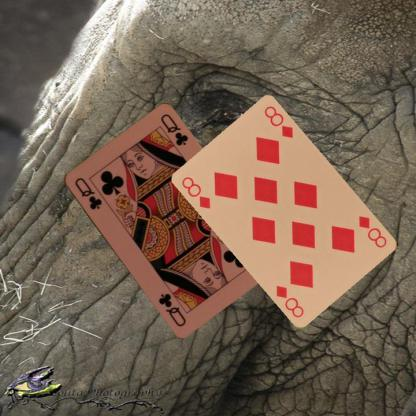8d: (356, 212, 389, 250), (179, 174, 212, 210)
Qc: (72, 174, 102, 211)
